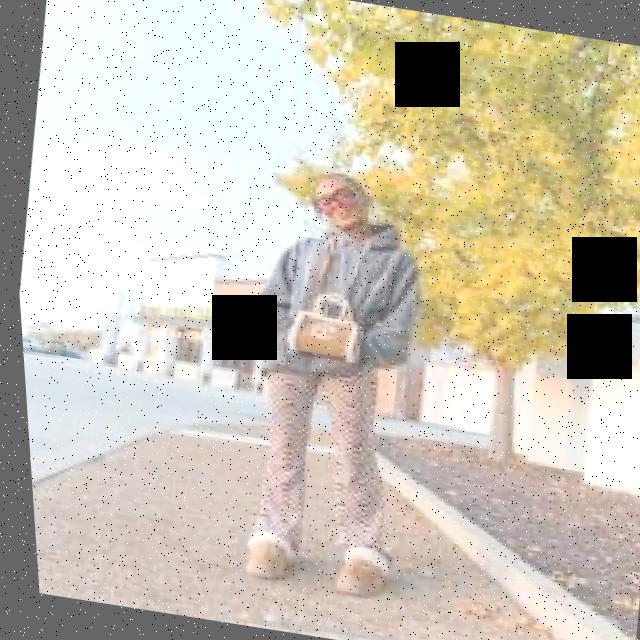shoe: (327, 548, 382, 597), (238, 532, 284, 580)
